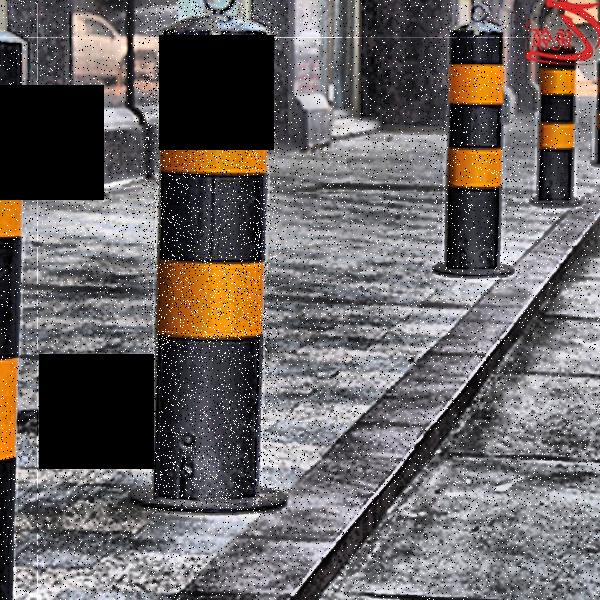bench: (142, 2, 280, 512), (434, 12, 522, 278)
